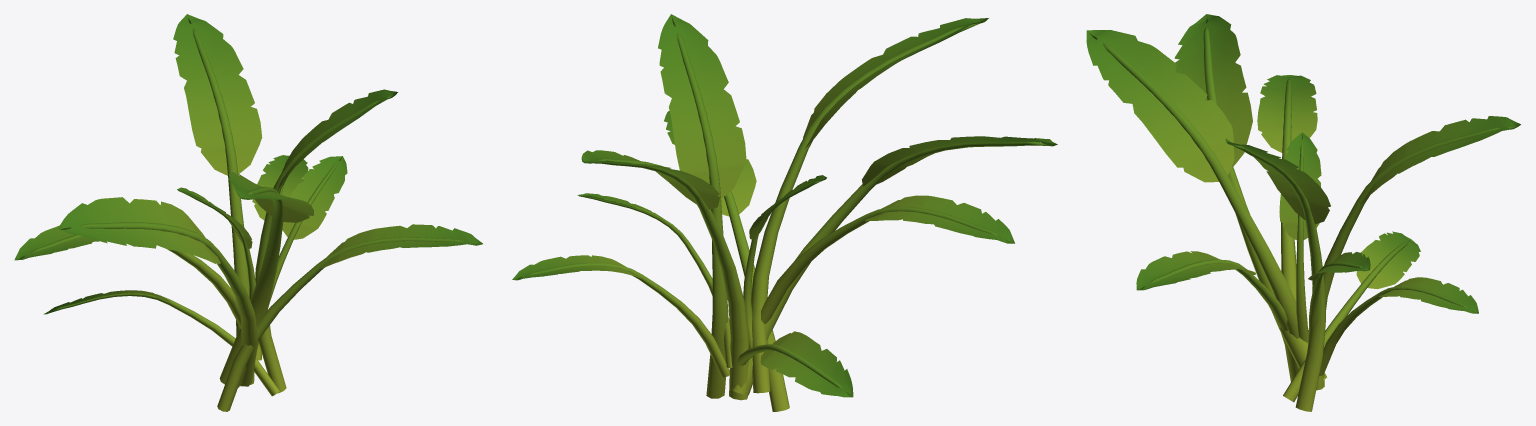
The model's file is MDL_PR_BananaTree_03.fbx.
The picture shows the model from 3 angles, left to right: view 1: azimuth 30°, elevation 25°; view 2: azimuth 150°, elevation 25°; view 3: azimuth 270°, elevation 25°; orthographic projection. The views are drawn at different scales.
Parts seen in each view (by area): view 1: Plane.041, Plane.038, Plane.039, Plane.037, Plane.040, Plane.051, Plane.036, Plane.049, Plane.048, Plane.050; view 2: Plane.040, Plane.037, Plane.036, Plane.041, Plane.038, Plane.049, Plane.048, Plane.039, Plane.050, Plane.051; view 3: Plane.037, Plane.038, Plane.040, Plane.041, Plane.036, Plane.039, Plane.049, Plane.050, Plane.048, Plane.051.
Boxes of the visible parts, <box> form: Plane.041: <box>173,14,262,386</box>; Plane.038: <box>58,197,258,386</box>; Plane.039: <box>217,224,482,411</box>; Plane.037: <box>219,172,313,387</box>; Plane.040: <box>255,89,397,393</box>; Plane.051: <box>257,156,347,348</box>; Plane.036: <box>14,225,240,328</box>; Plane.049: <box>43,290,279,396</box>; Plane.048: <box>252,155,308,360</box>; Plane.050: <box>177,187,255,300</box>; Plane.040: <box>658,14,746,398</box>; Plane.037: <box>751,18,988,393</box>; Plane.036: <box>761,195,1014,323</box>; Plane.041: <box>581,150,748,400</box>; Plane.038: <box>731,136,1057,395</box>; Plane.049: <box>737,331,853,397</box>; Plane.048: <box>512,255,729,377</box>; Plane.039: <box>664,111,789,411</box>; Plane.050: <box>743,175,826,348</box>; Plane.051: <box>577,193,732,367</box>; Plane.037: <box>1086,30,1308,338</box>; Plane.038: <box>1174,14,1326,380</box>; Plane.040: <box>1225,138,1330,411</box>; Plane.041: <box>1308,116,1520,390</box>; Plane.036: <box>1257,75,1317,301</box>; Plane.039: <box>1136,251,1298,381</box>; Plane.049: <box>1283,231,1420,402</box>; Plane.050: <box>1279,132,1321,342</box>; Plane.048: <box>1319,277,1478,376</box>; Plane.051: <box>1308,252,1370,334</box>.
Bounding box in the file's own units: 412 × 314 × 394.
